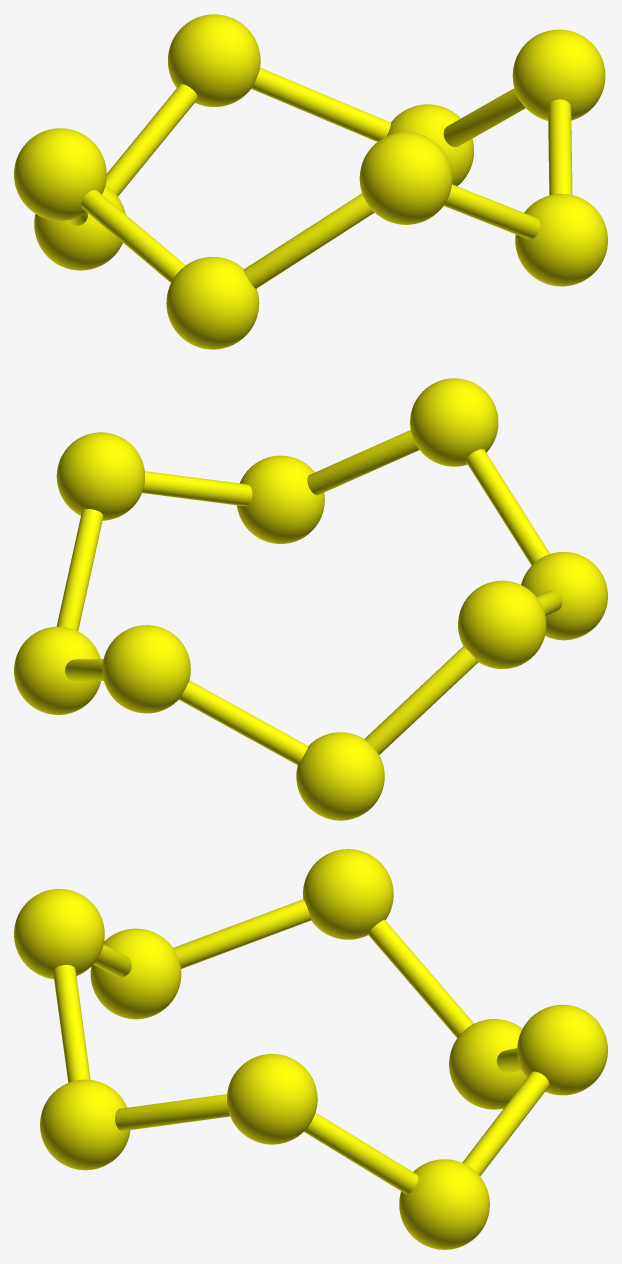
3 renders of one model, top to bottom at view 1: azimuth 30°, elevation 25°; view 2: azimuth 150°, elevation 25°; view 3: azimuth 270°, elevation 25°, orthographic. The views are drawn at different scales.
Parts seen in each view (by area): view 1: CMAtom_3, CMAtom_5, CMAtom_6, CMAtom_4, CMAtom_2, CMAtom_1, CMAtom_7, CMBond_6_Segment_0, CMBond_5_Segment_0, CMBond_7_Segment_0, CMBond_4_Segment_0, CMAtom_0 (+3 smaller); view 2: CMAtom_6, CMAtom_4, CMAtom_7, CMAtom_3, CMAtom_1, CMAtom_2, CMAtom_0, CMAtom_5, CMBond_7_Segment_0, CMBond_8_Segment_0, CMBond_5_Segment_0, CMBond_1_Segment_0 (+3 smaller); view 3: CMAtom_1, CMAtom_4, CMAtom_0, CMAtom_6, CMAtom_3, CMAtom_2, CMAtom_5, CMAtom_7, CMBond_4_Segment_0, CMBond_8_Segment_0, CMBond_1_Segment_0, CMBond_6_Segment_0 (+3 smaller).
Boxes of the visible parts, x1,y1,x2,y2 form: CMAtom_3: (359,132,452,224); CMAtom_5: (166,257,259,349); CMAtom_6: (168,14,260,106); CMAtom_4: (14,128,106,220); CMAtom_2: (515,193,607,286); CMAtom_1: (512,29,605,120); CMAtom_7: (34,185,125,270); CMBond_6_Segment_0: (251,67,391,141); CMBond_5_Segment_0: (243,193,374,288); CMBond_7_Segment_0: (105,84,197,196); CMBond_4_Segment_0: (81,190,185,282); CMAtom_0: (387,104,473,186); CMAtom_6: (102,625,190,713); CMAtom_4: (458,580,546,668); CMAtom_7: (296,732,384,820); CMAtom_3: (410,378,498,466); CMAtom_1: (56,432,145,520); CMAtom_2: (237,455,324,543); CMAtom_0: (14,626,100,714); CMAtom_5: (521,552,607,640); CMBond_7_Segment_0: (179,680,308,765); CMBond_8_Segment_0: (364,646,478,754); CMBond_5_Segment_0: (466,449,549,565); CMBond_1_Segment_0: (56,509,103,630); CMAtom_1: (227,1054,317,1144); CMAtom_4: (303,849,393,939); CMAtom_0: (399,1159,489,1249); CMAtom_6: (517,1004,607,1095); CMAtom_3: (14,889,104,979); CMAtom_2: (40,1079,130,1170); CMAtom_5: (90,928,181,1019); CMAtom_7: (449,1019,526,1109); CMBond_4_Segment_0: (173,899,311,968); CMBond_8_Segment_0: (368,919,473,1037); CMBond_1_Segment_0: (304,1113,418,1193); CMBond_6_Segment_0: (462,1071,549,1176).
Bounding box in the file's own units: 5.49 × 2.59 × 5.34.
